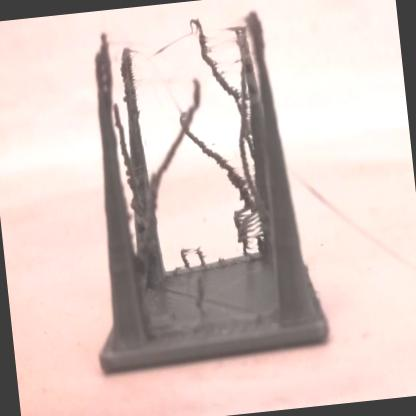fail: (186, 21, 249, 116), (230, 202, 270, 256), (181, 236, 221, 266)
